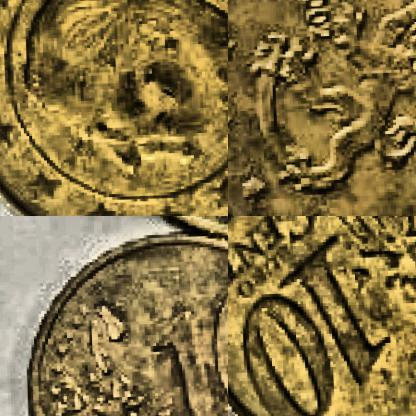coin: (0, 0, 227, 215), (228, 0, 415, 215), (21, 226, 227, 415), (228, 216, 415, 415)
